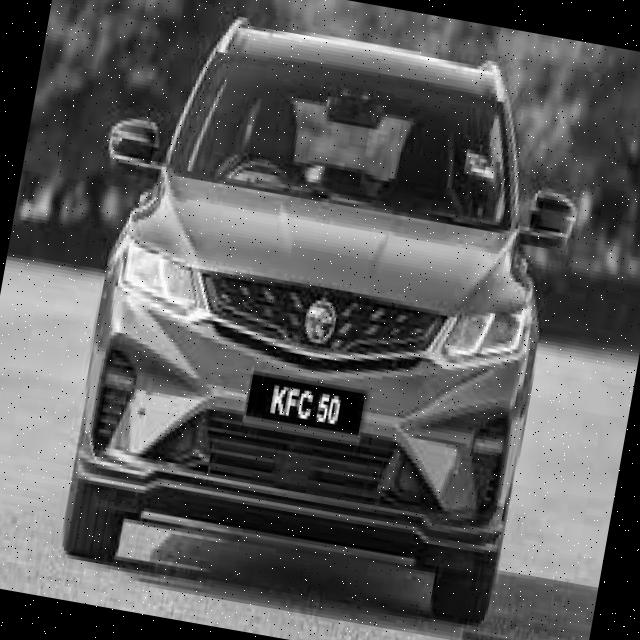License_Plate: (237, 360, 377, 447)
car: (32, 1, 640, 640)
